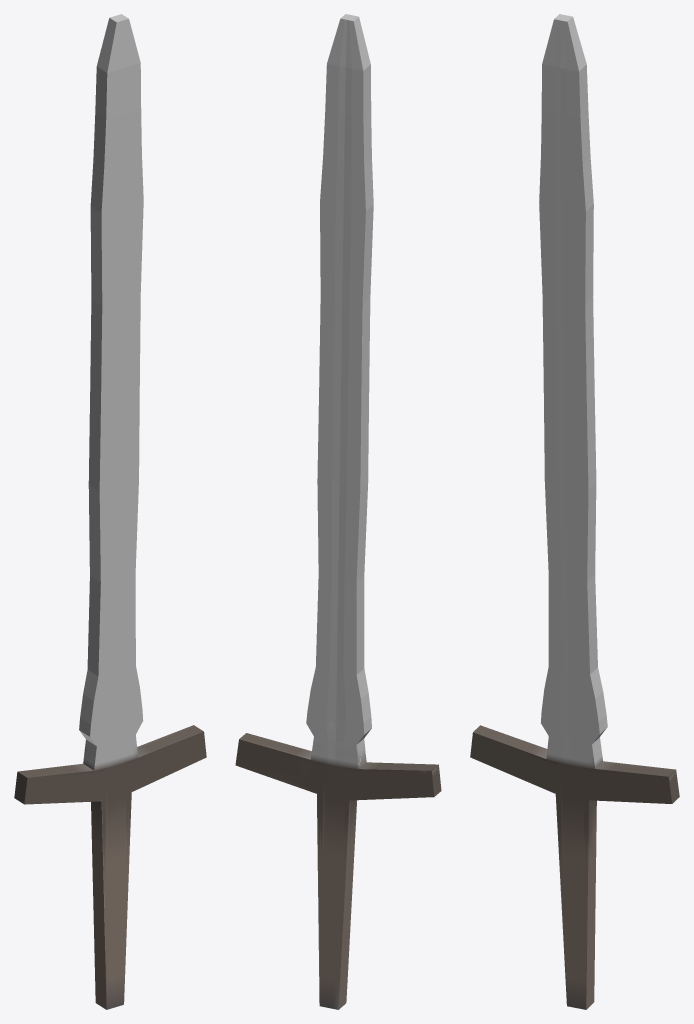
Rendered from sword_000070.obj.
The picture shows the model from 3 angles, left to right: view 1: azimuth 30°, elevation 25°; view 2: azimuth 150°, elevation 25°; view 3: azimuth 330°, elevation 25°; orthographic projection.
Size of the model in its own units: 0.1421 by 0.6986 by 0.031.
